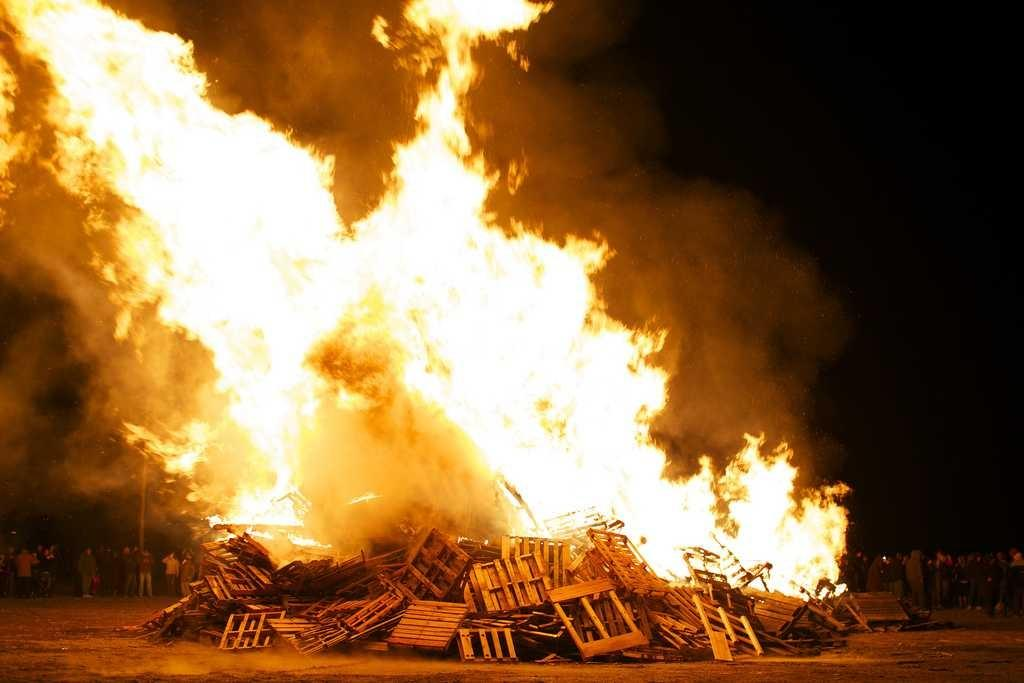fire: (412, 250, 585, 397), (175, 155, 308, 332), (505, 403, 642, 527), (738, 498, 832, 580), (412, 158, 478, 245), (648, 485, 703, 562)
